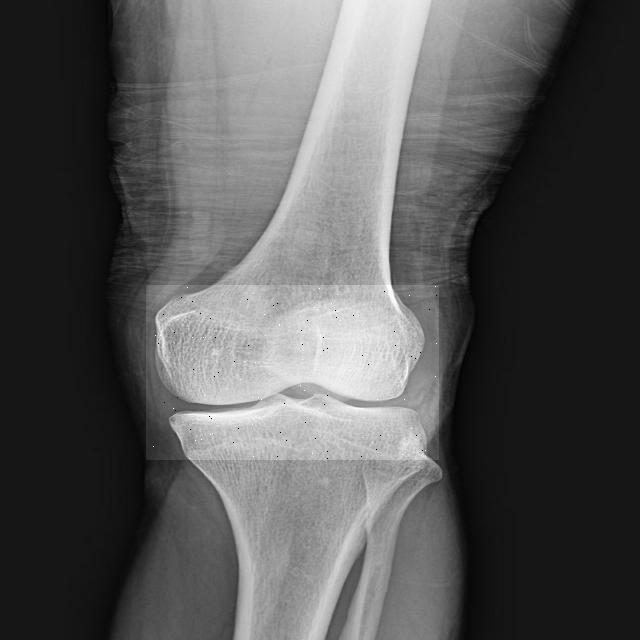normal: (146, 285, 439, 460)
